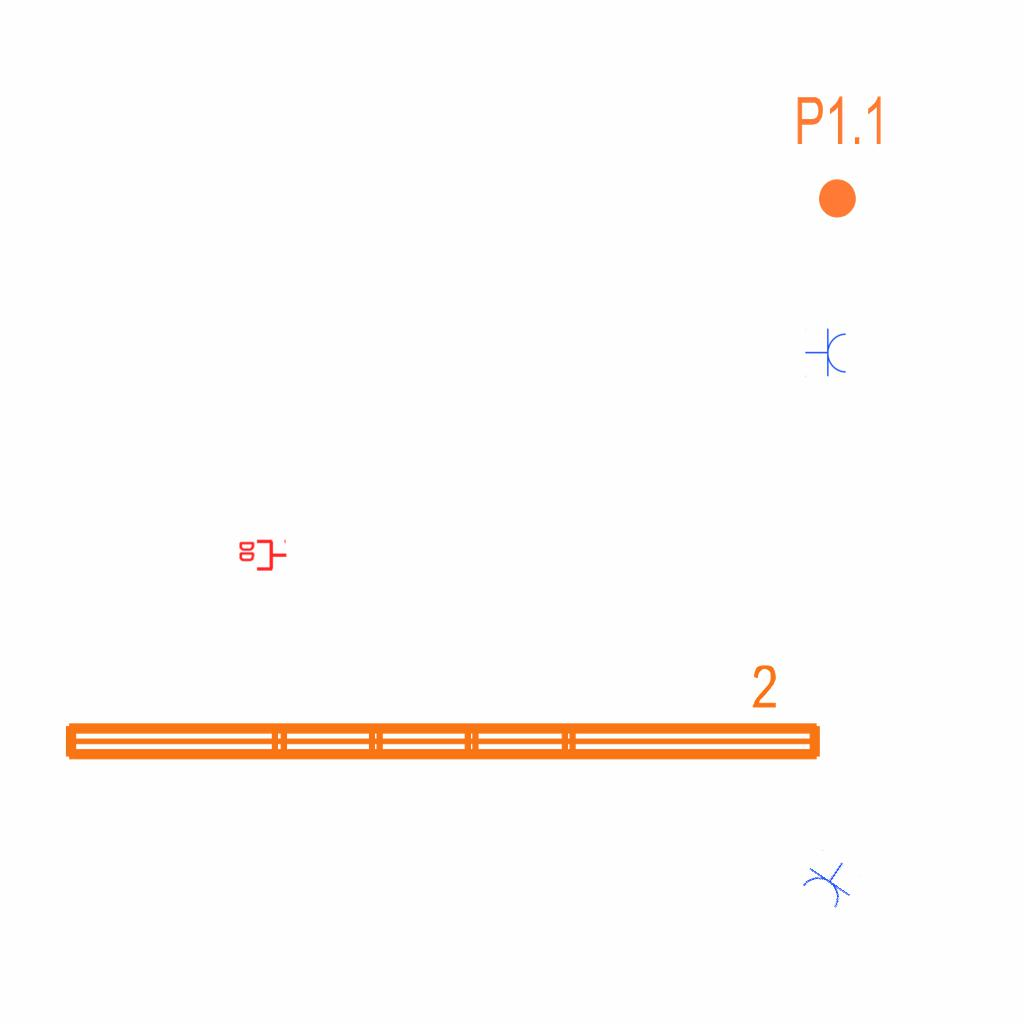Ambulanz_Pendelleuchte_LED: (55, 660, 829, 772)
Datenanschluss_zweifach: (237, 539, 288, 573)
Downlight_LED_Einbauleuchten_Flur: (794, 93, 887, 221)
Schukosteckdose_einfach: (797, 848, 863, 913), (805, 328, 848, 378)
